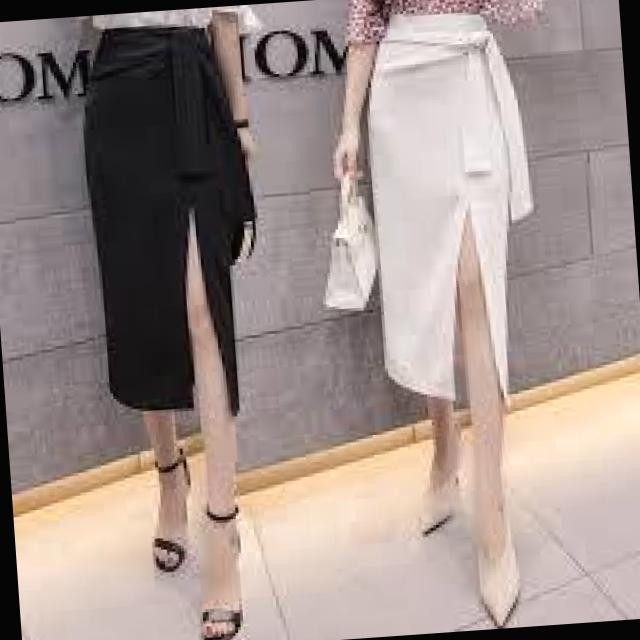skirt: (39, 7, 323, 476), (332, 0, 572, 429)
